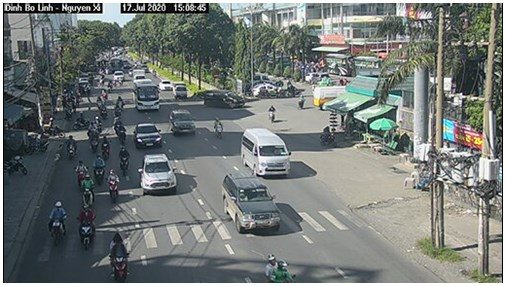xe_hoi: (213, 172, 282, 232), (135, 154, 182, 197), (169, 107, 199, 139), (134, 122, 167, 150)
xe_khach: (238, 126, 291, 180)
xe_may: (105, 229, 137, 282), (256, 252, 300, 283), (75, 202, 98, 250), (48, 197, 66, 247), (79, 170, 101, 210), (105, 169, 123, 204), (71, 160, 88, 187), (117, 144, 131, 175), (64, 134, 78, 160), (211, 113, 224, 139), (93, 154, 104, 183), (265, 103, 279, 123), (101, 135, 111, 160), (87, 130, 98, 150), (117, 122, 126, 140)
xe_tai: (132, 79, 160, 114)
